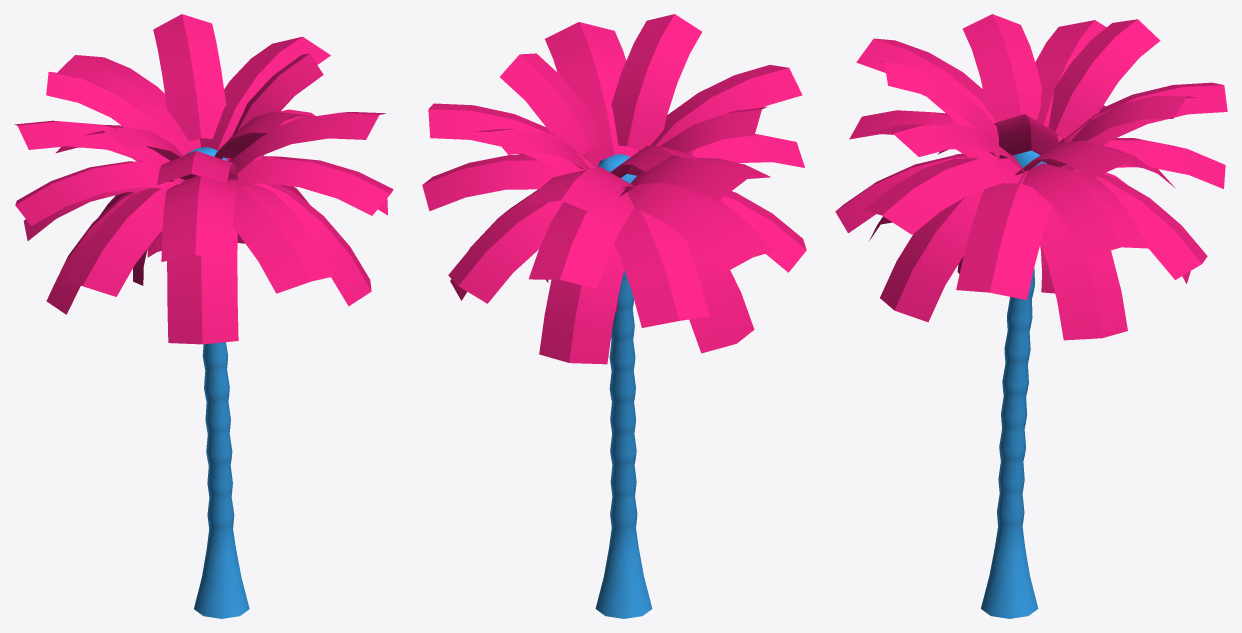
The model's file is Prop_palmera03.FBX.
3 renders of one model, left to right at view 1: azimuth 30°, elevation 25°; view 2: azimuth 150°, elevation 25°; view 3: azimuth 270°, elevation 25°, orthographic. The views are drawn at different scales.
Visible parts, largest first — view 1: Cylinder001; view 2: Cylinder001; view 3: Cylinder001.
Boxes of the visible parts, x1=… form: Cylinder001: x1=14, y1=14, x2=393, y2=618; Cylinder001: x1=422, y1=14, x2=806, y2=618; Cylinder001: x1=835, y1=14, x2=1227, y2=618.
Bounding box in the file's own units: 5.37 × 8.46 × 5.46.
